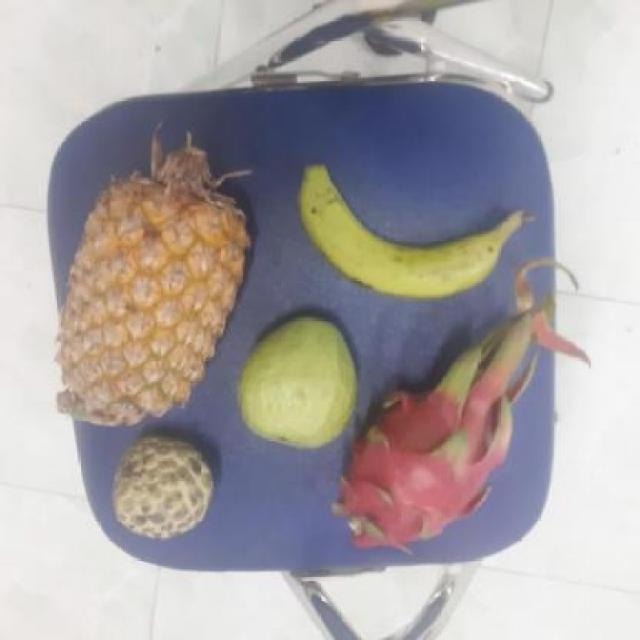banana: (303, 175, 529, 298)
dragon fruit: (339, 378, 510, 550)
guava: (238, 316, 364, 447)
pineapple: (64, 167, 251, 422)
sugar apple: (111, 438, 218, 538)
